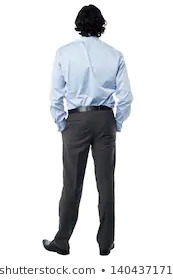F_belt: (65, 105, 114, 114)
F_dress pants: (53, 105, 118, 249)
F_shirt: (47, 31, 132, 133)
